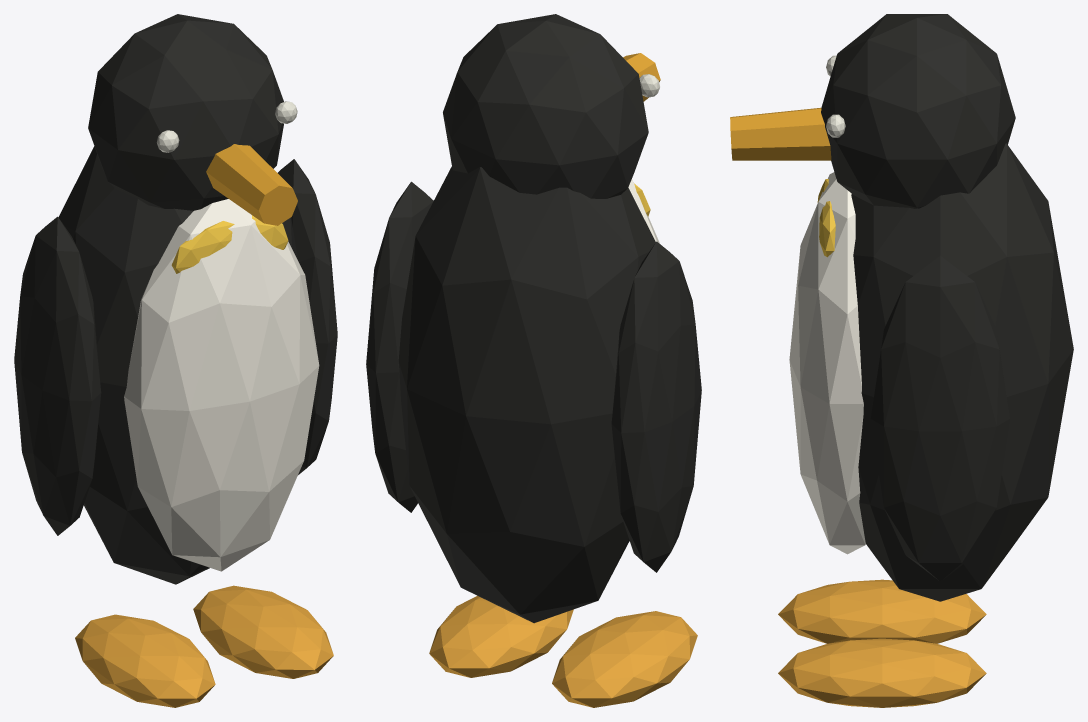
The model's file is zoo-penguin.glb.
The picture shows the model from 3 angles, left to right: view 1: azimuth 30°, elevation 25°; view 2: azimuth 150°, elevation 25°; view 3: azimuth 270°, elevation 25°; orthographic projection. The views are drawn at different scales.
Visible parts, largest first — view 1: White belly, Head.005, Dark back, Flipper, Orange foot.001, Orange foot, Flipper.001, Bill.001, Golden neck; view 2: Dark back, Head.005, Flipper, Flipper.001, Orange foot, Orange foot.001, Bill.001; view 3: Dark back, Flipper.001, Head.005, White belly, Orange foot.001, Orange foot, Bill.001, Golden neck.
Boxes of the visible parts, x1,y1,x2,y2 form: White belly: (124,199,319,571); Head.005: (88,14,283,210); Dark back: (58,146,298,584); Flipper: (14,216,101,535); Orange foot.001: (193,585,333,678); Orange foot: (75,614,215,707); Flipper.001: (278,159,337,474); Bill.001: (206,144,297,225); Golden neck: (171,215,288,273); Dark back: (398,166,655,623); Head.005: (443,14,648,198); Flipper: (611,241,701,572); Flipper.001: (366,181,433,512); Orange foot: (552,611,697,707); Orange foot.001: (429,596,573,677); Bill.001: (623,53,660,101); Dark back: (851,143,1073,601); Flipper.001: (870,255,1009,581); Head.005: (821,14,1015,208); White belly: (789,172,865,554); Orange foot.001: (778,638,986,707); Orange foot: (778,579,986,643); Bill.001: (730,107,831,160); Golden neck: (817,179,835,257).
Bounding box in the file's own units: 0.5846 × 1.24 × 0.5922.
